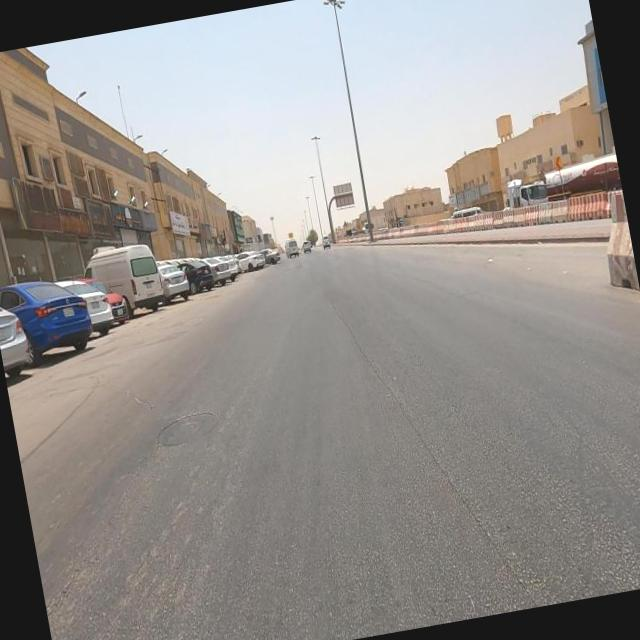debris: (38, 174, 108, 268), (15, 161, 90, 244), (180, 201, 240, 260), (77, 182, 129, 250), (131, 187, 178, 250)
